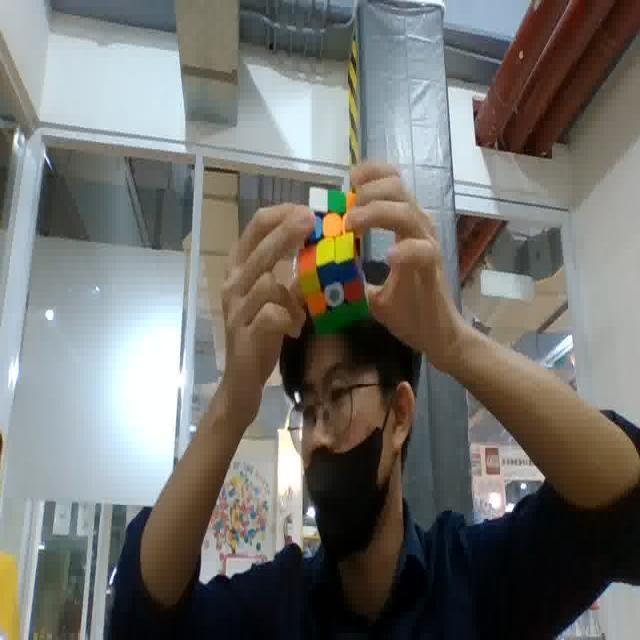Rub: (298, 186, 374, 333)
